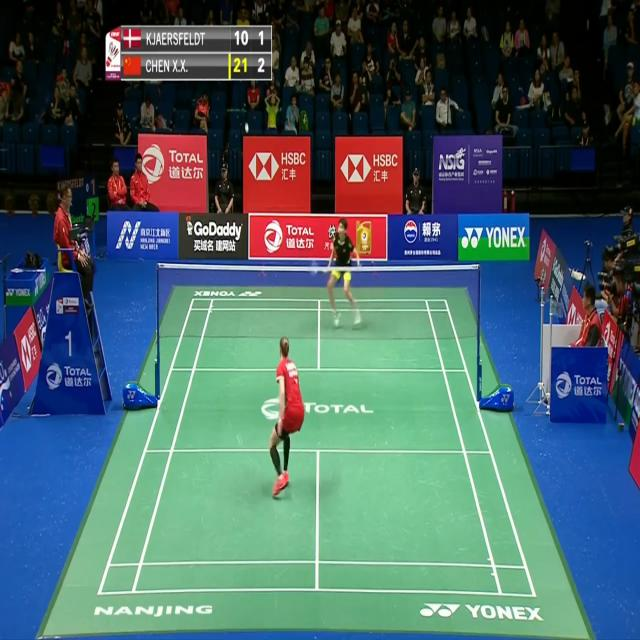Player1: (263, 332, 308, 504)
Player2: (306, 213, 366, 334)
